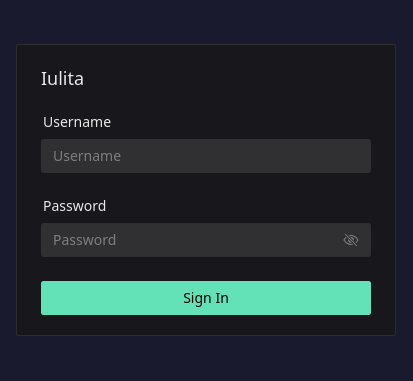
Test: Login.vue › shows error on invalid credentials
The width and height of the screenshot is (413, 381).
Click the button "Sign In": (206, 298) [41,281,371,315]
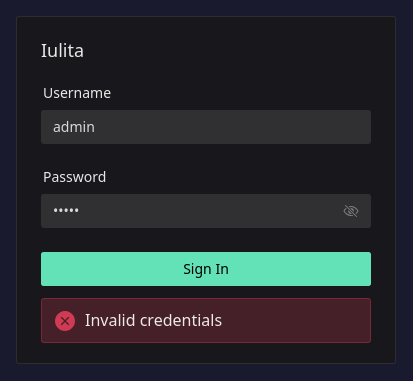
Result: the text "Invalid credentials" is shown at [85,309,222,331]
